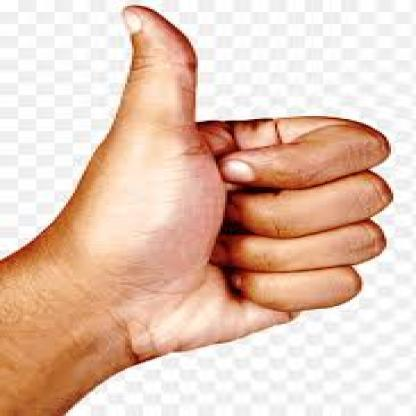thumb_up: (77, 1, 394, 360)
